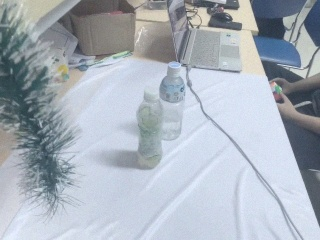bottle: (157, 62, 189, 140), (136, 86, 165, 170)
box: (69, 1, 136, 59)
